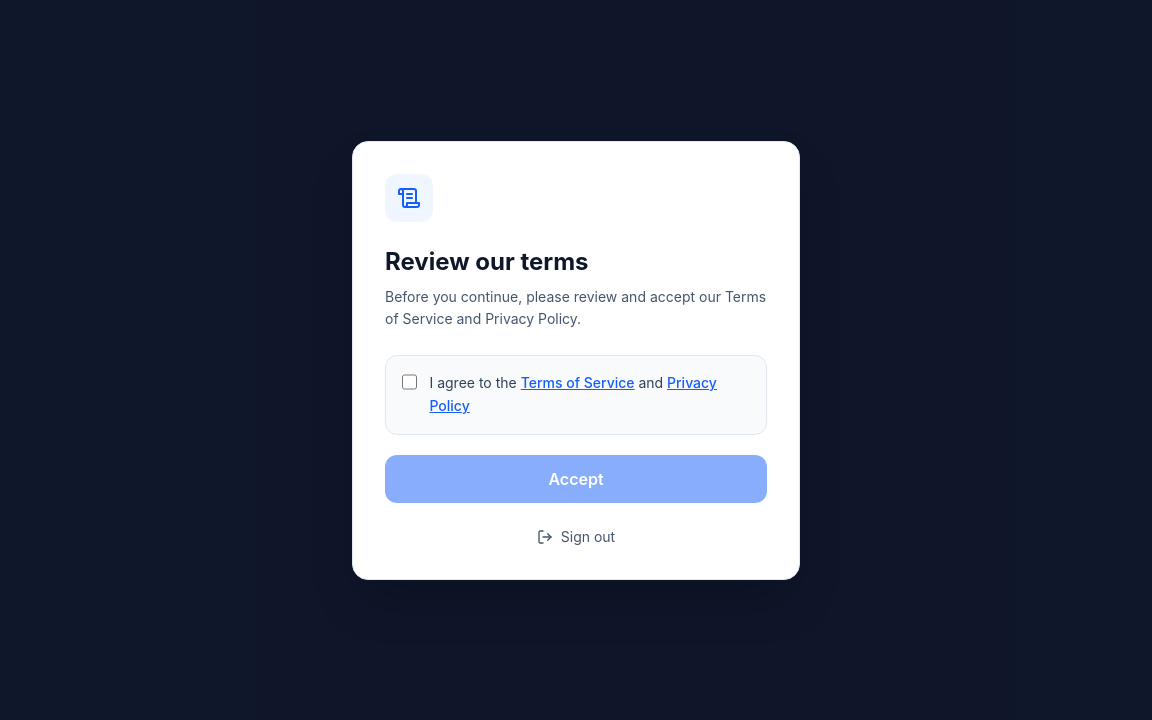
Test: Legal acceptance gate › shows a blocking dialog when status is false and removes it after accepting
The image size is (1152, 720).
Check: the dialog "Review our terms" is shown, box [352,140,800,580]
Check: the text "App content" is not shown
Click the checkbox at (410, 382), box [402,374,418,390]
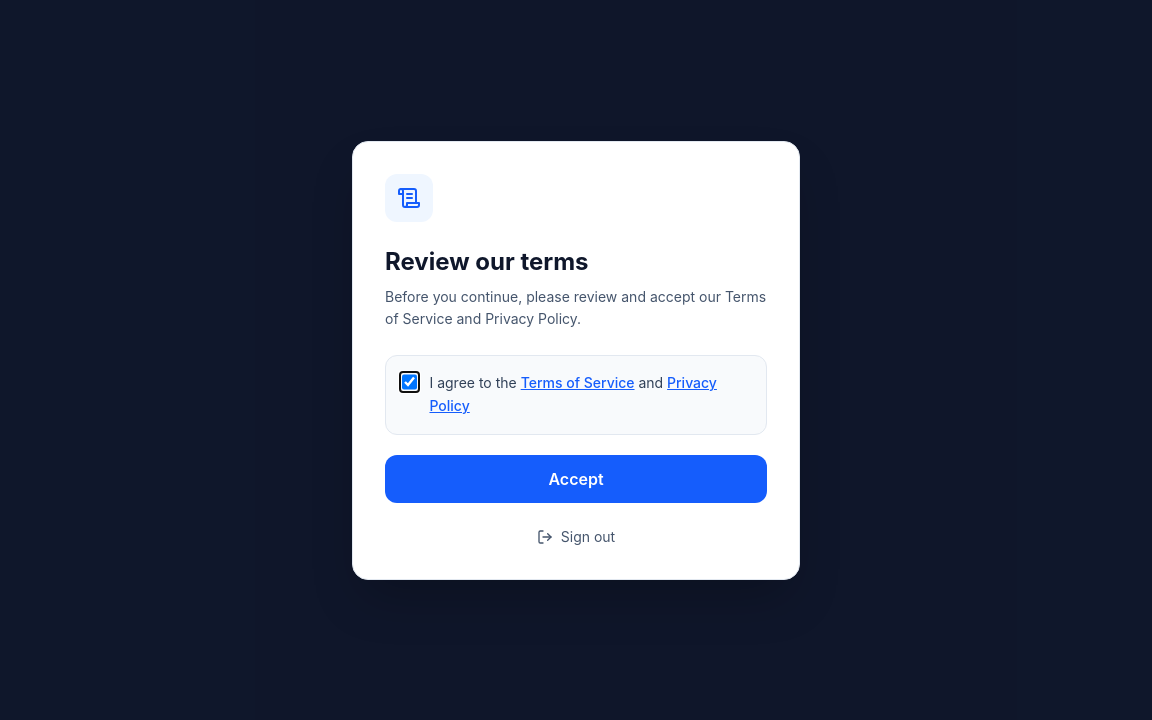
Check: the button "Accept" is enabled
Click the button "Accept" at (576, 478), box [385,454,767,502]
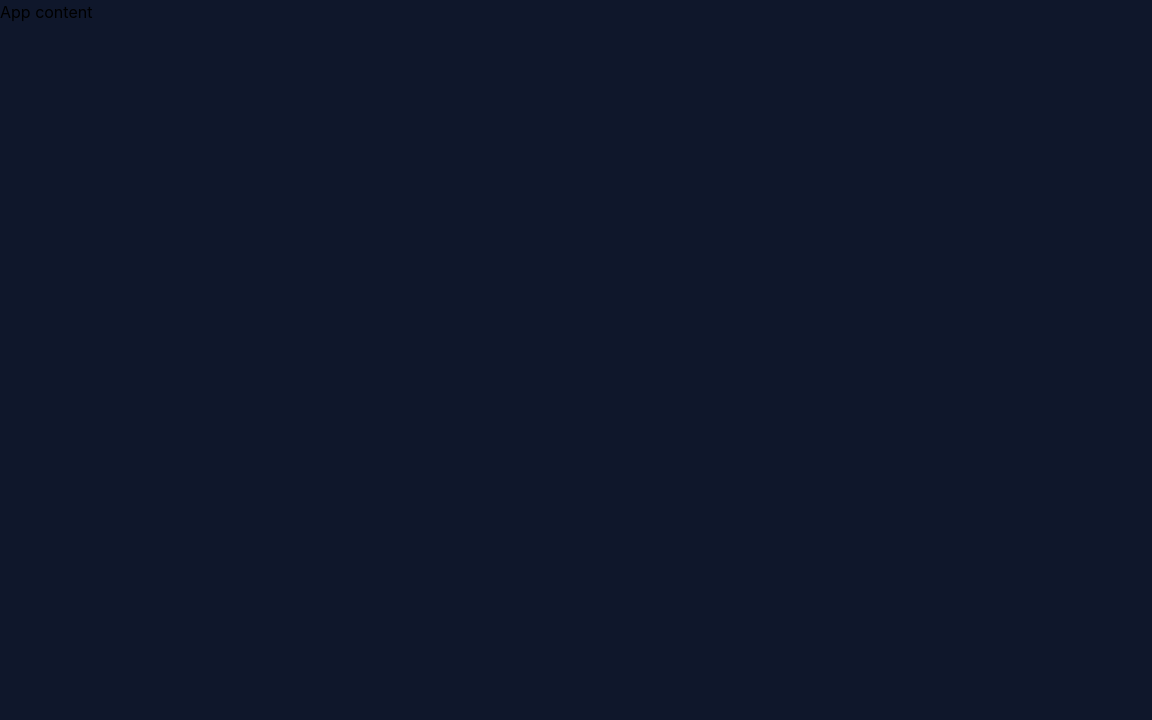
Check: the text "App content" is shown, box [0,2,92,22]
Check: the dialog is gone
